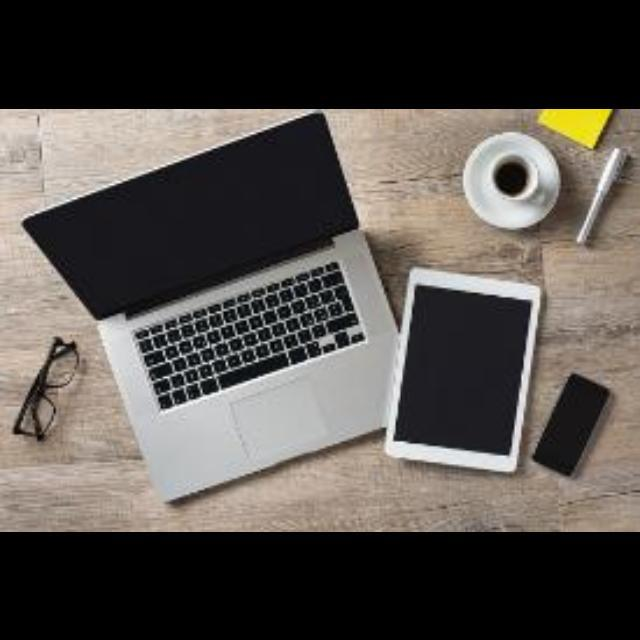Phone: (386, 267, 544, 471), (538, 376, 620, 499)
